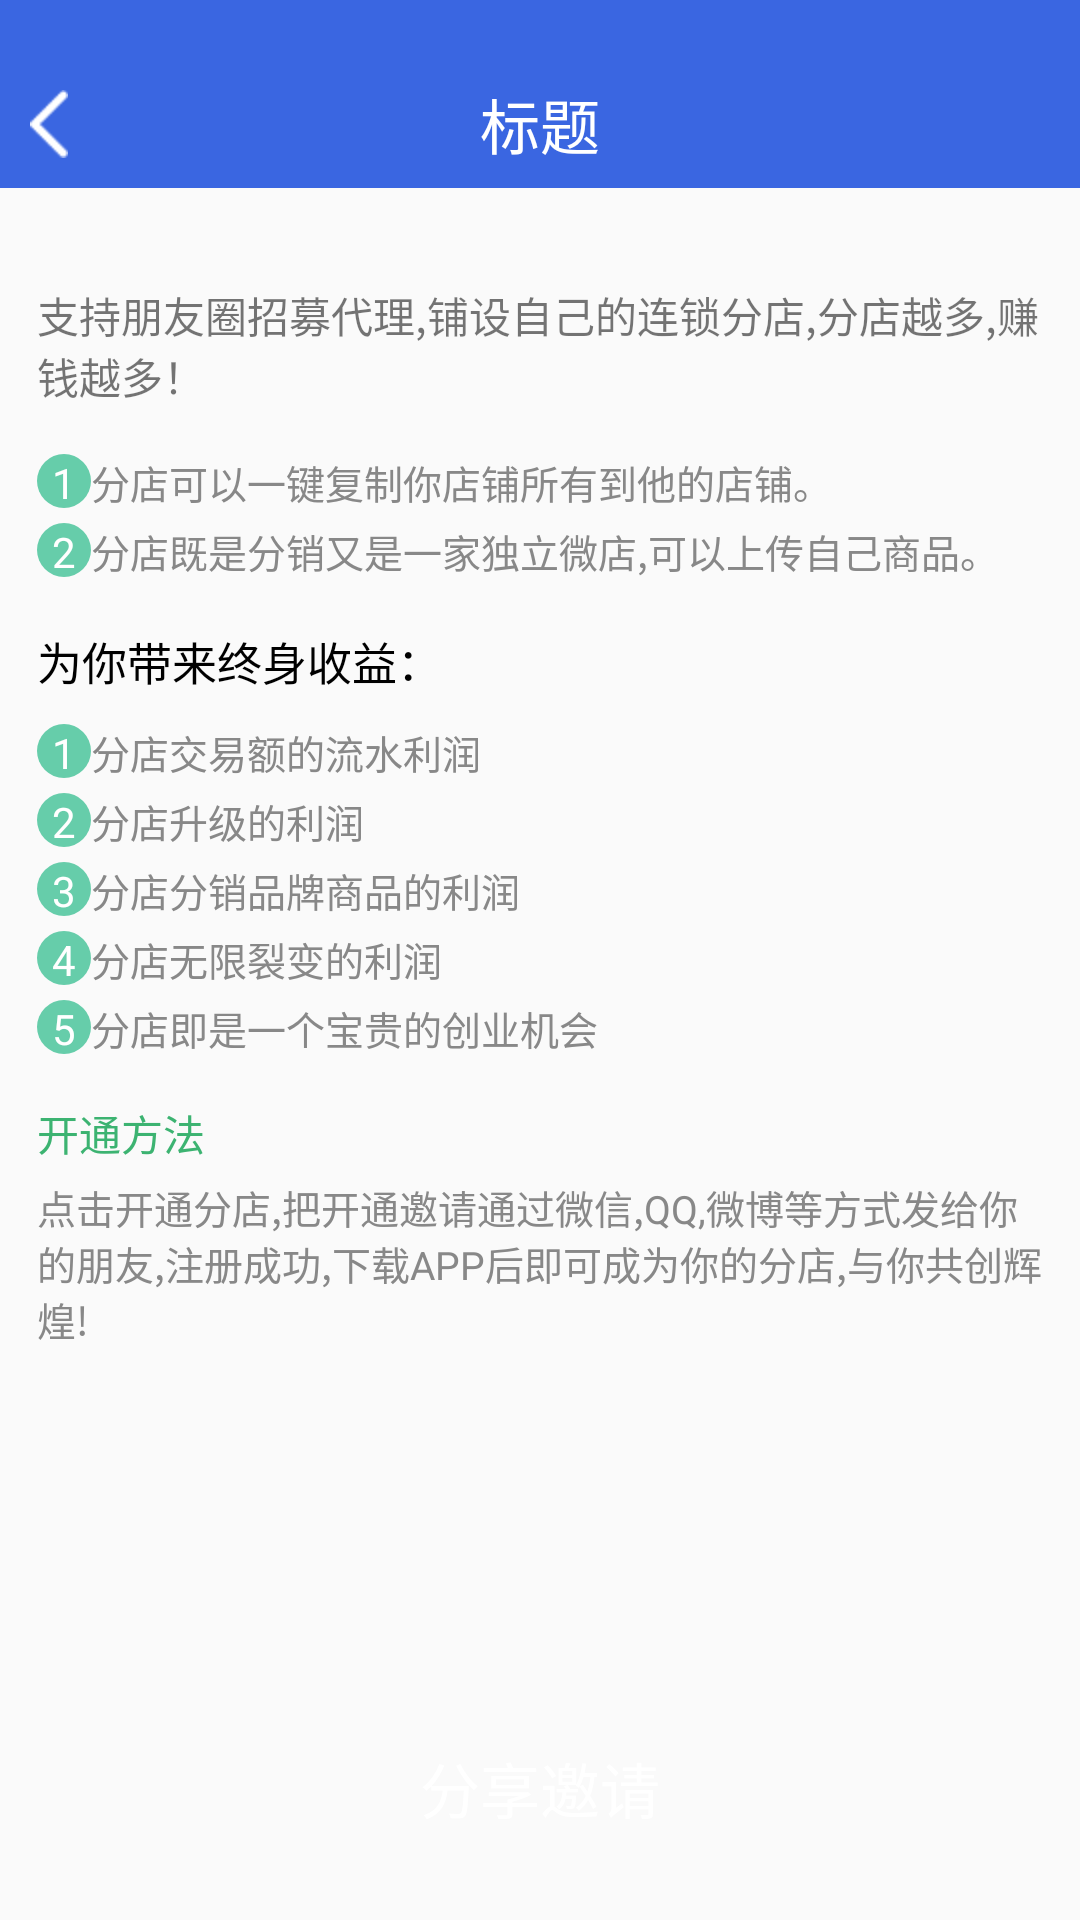

Named icons in this screenshot (1080*1920) and their centers, (x,y):
chevron left: (49,124)
